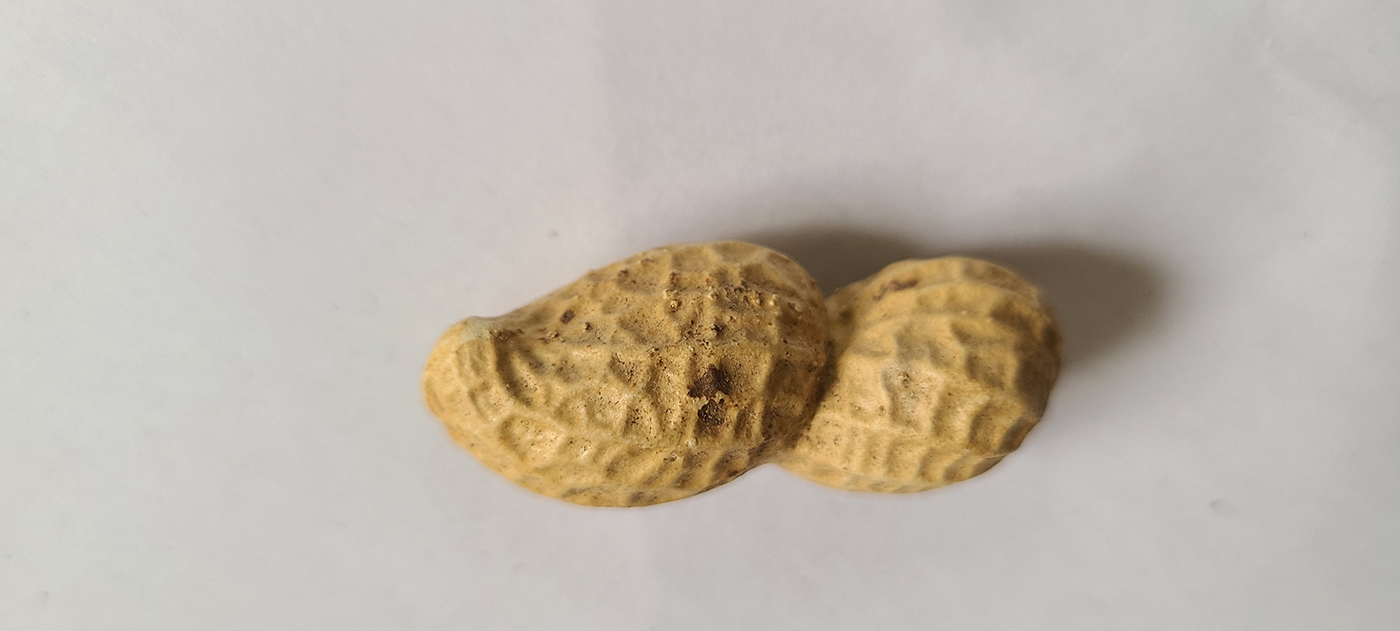h: (419, 238, 1062, 509)
